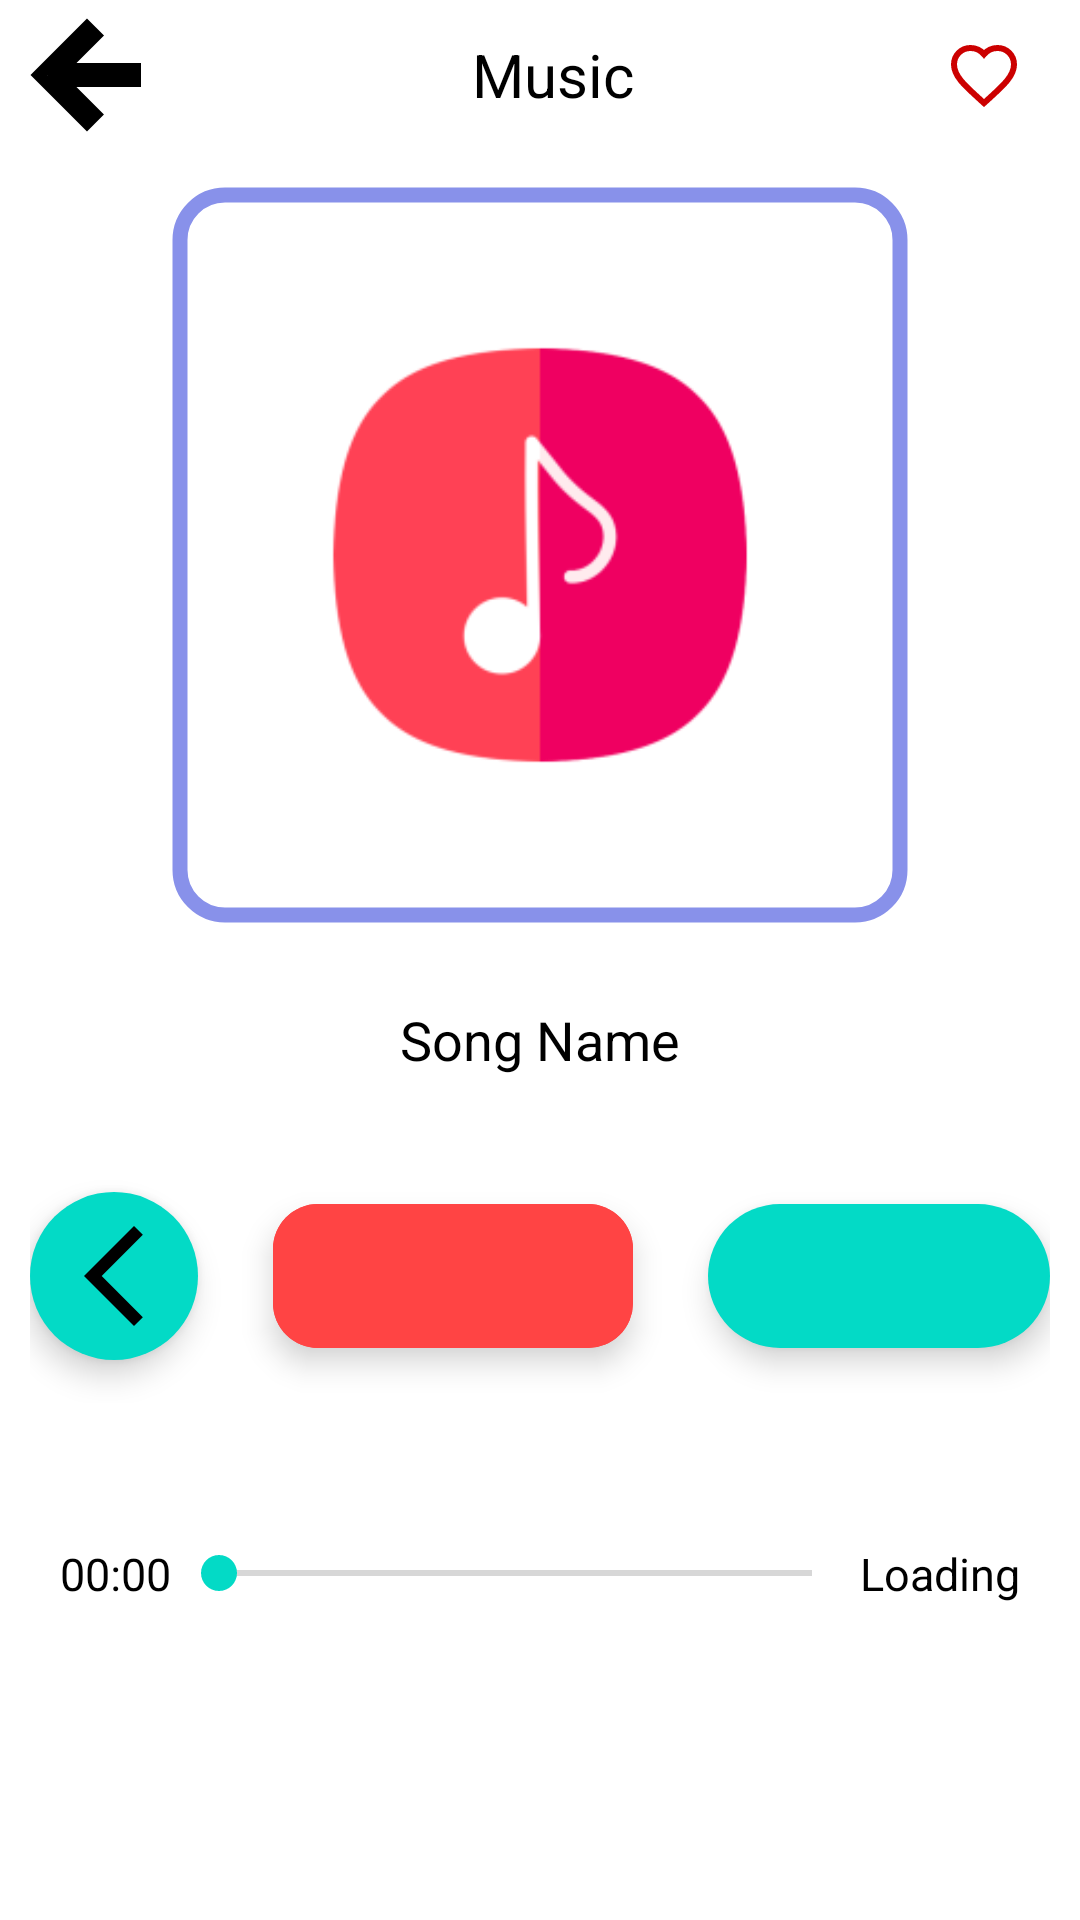

Icons on this 1080*1920 Android screen, each with its box as box=[x1, y1, x2, y2]:
back: box=[30, 18, 141, 132]
Favorite: box=[951, 45, 1017, 107]
previous: box=[30, 1192, 198, 1360]
